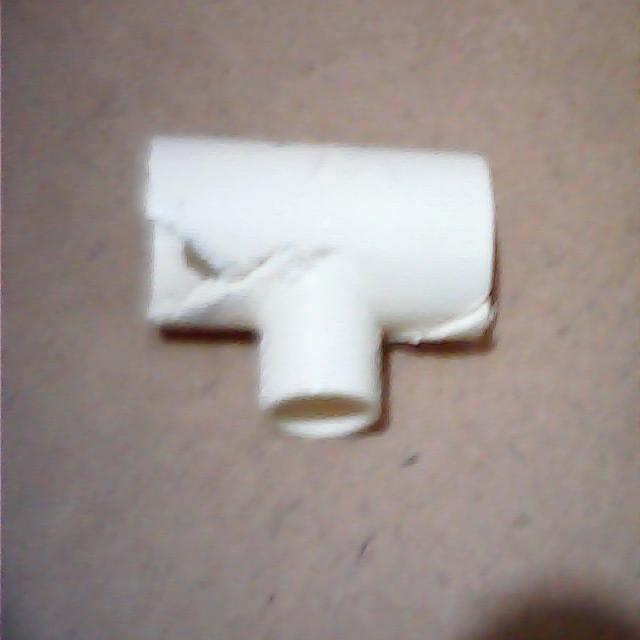Defective: (130, 187, 262, 333), (384, 283, 506, 377)
T Joint: (141, 135, 498, 443)
